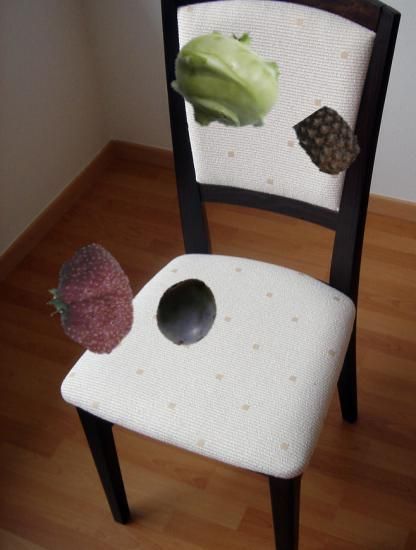Kohlrabi: (170, 23, 286, 139)
Pineapple: (296, 109, 362, 175)
Plum: (152, 277, 222, 347)
Strawberry: (38, 249, 146, 357)
